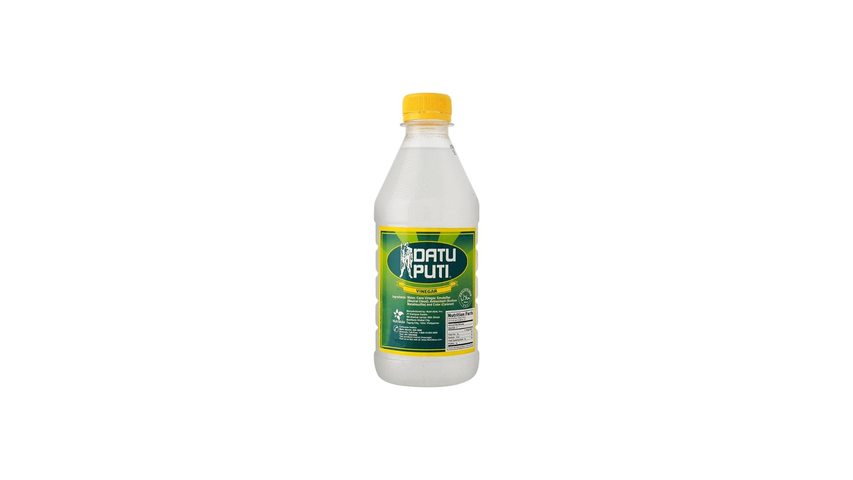non-toxic_waste: (380, 97, 467, 382)
